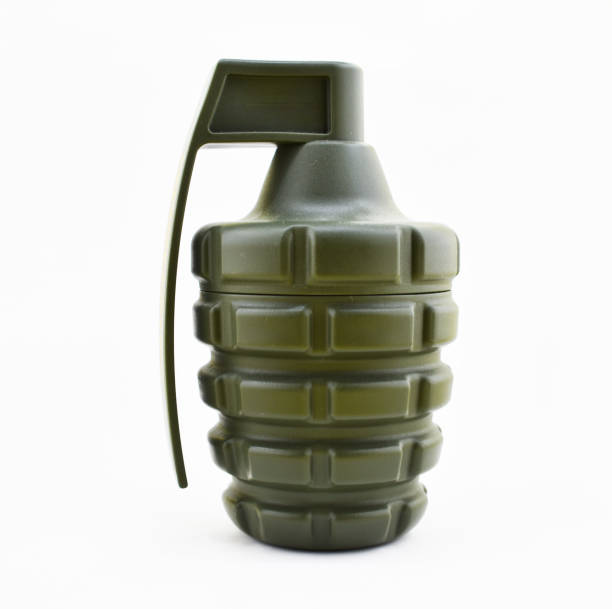e1: (161, 59, 464, 555)
